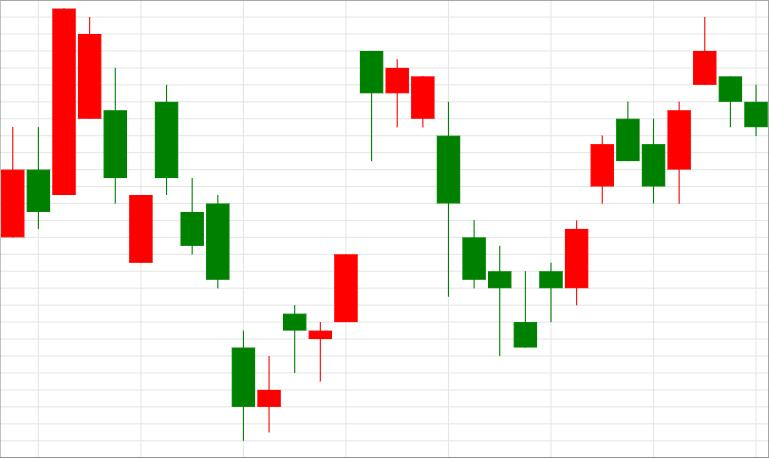hanging_man_fall: (258, 51, 383, 432)
inverse_hammer_rise: (386, 58, 537, 356)
